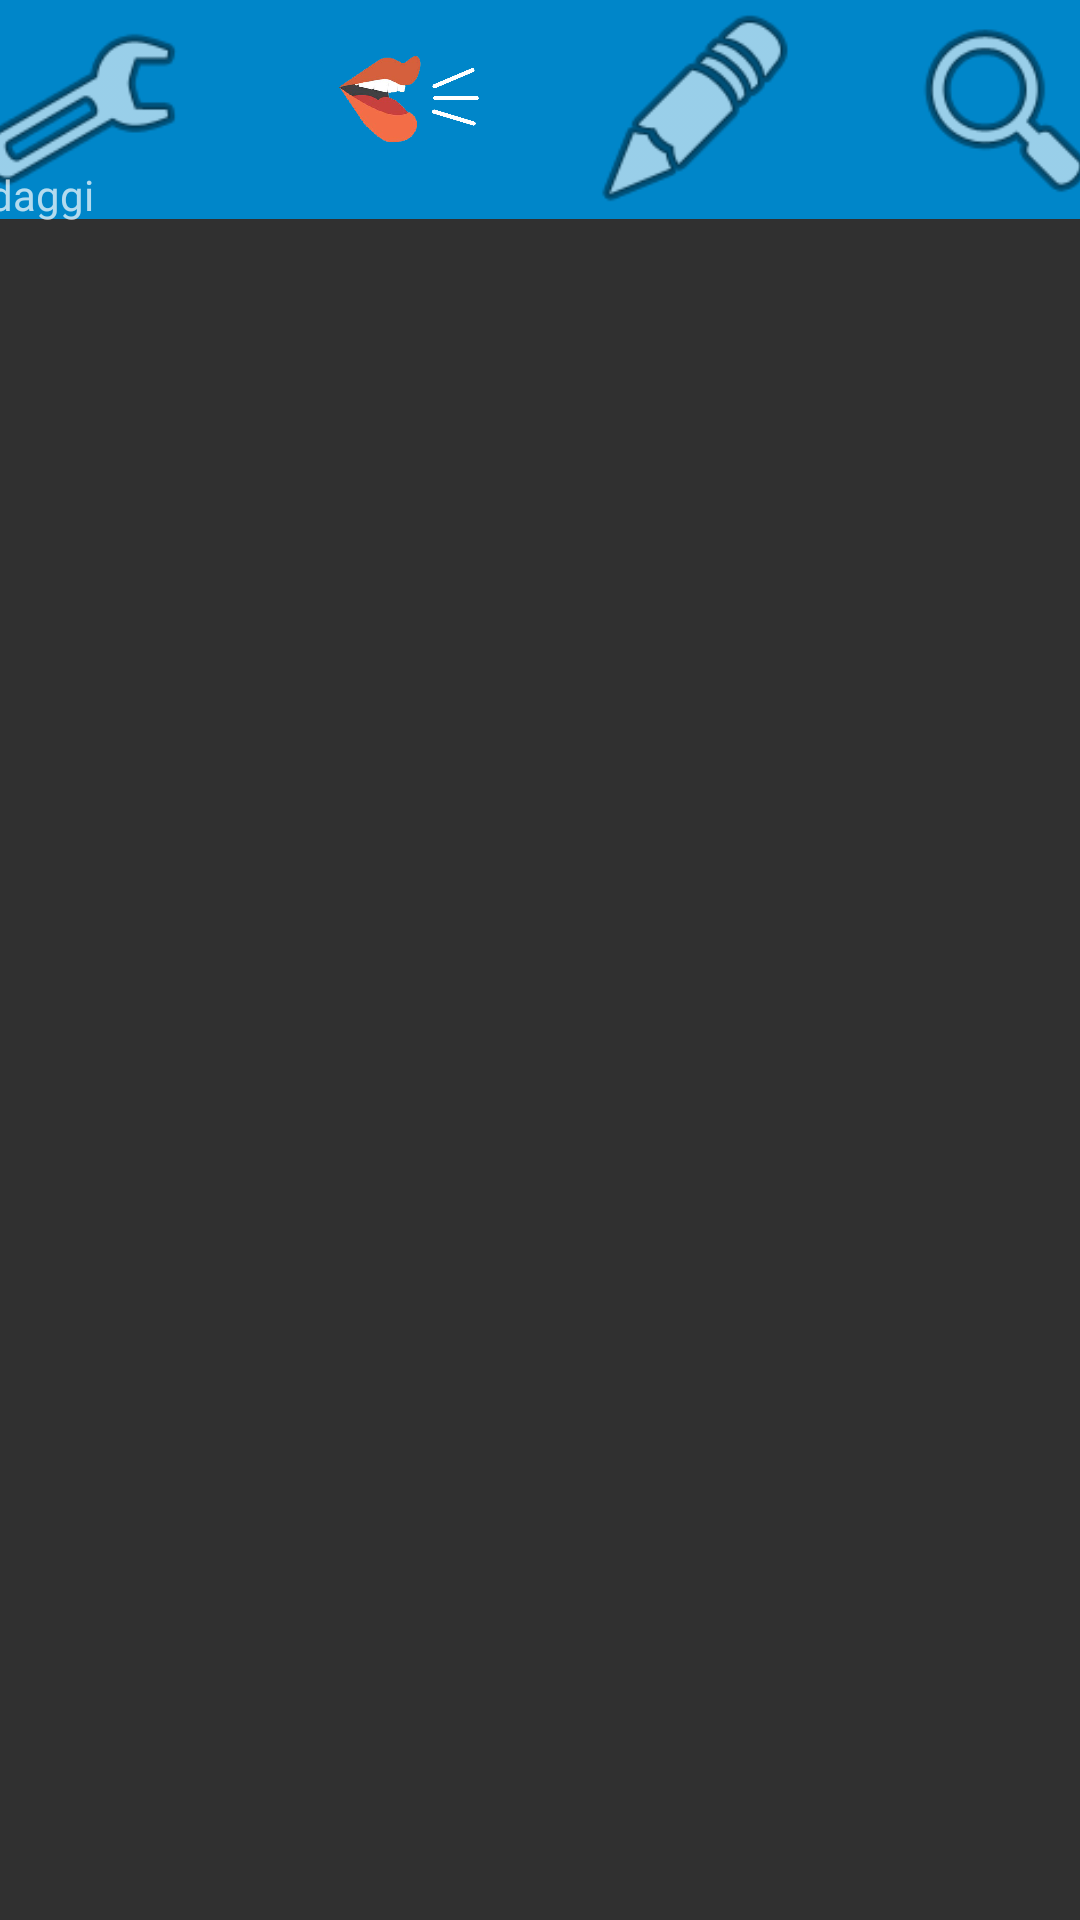

Icons on this 1080x1920 Android screen, each with its box as bbox(x1, y1, x2, y2):
edit: bbox(602, 15, 788, 201)
